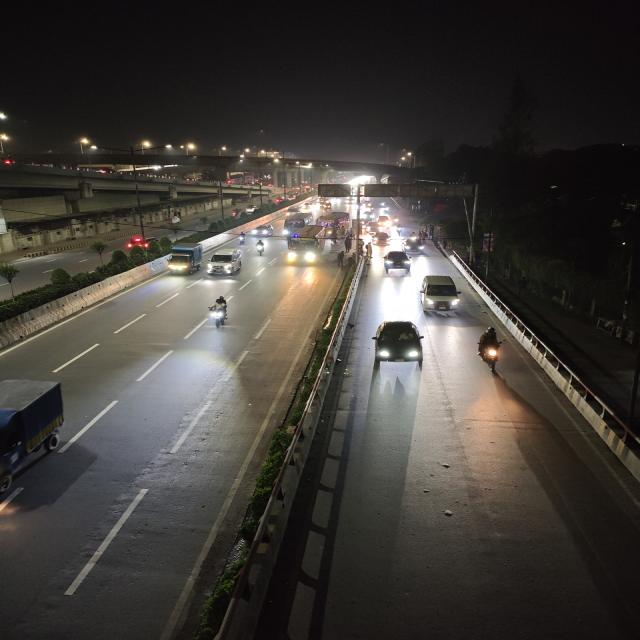bus: (283, 225, 325, 267), (319, 211, 352, 239), (280, 216, 310, 237)
car: (369, 318, 429, 370), (419, 272, 465, 318), (206, 248, 246, 280), (381, 250, 413, 278), (369, 232, 394, 248), (403, 239, 428, 255), (250, 223, 274, 237)
cng: (166, 240, 203, 278)
motorcycle: (475, 325, 507, 374), (203, 294, 236, 332), (252, 238, 267, 258), (236, 232, 247, 245)
pedestrian: (335, 250, 347, 271)
truck: (0, 372, 80, 518)
